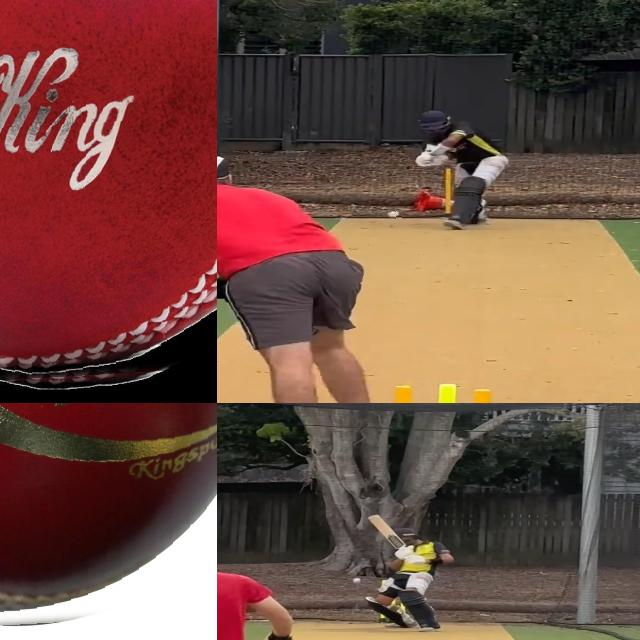Cricket ball: (0, 0, 217, 394), (0, 403, 217, 640), (387, 210, 402, 220), (352, 577, 362, 584)
